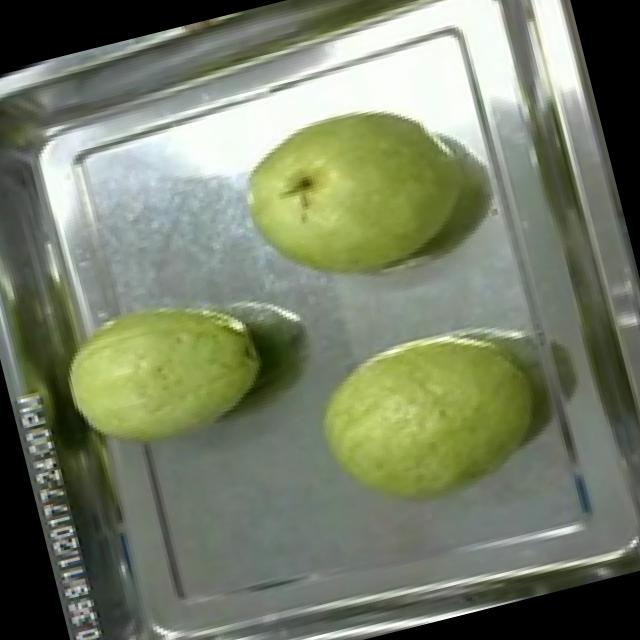Fruit: (220, 73, 494, 311), (293, 301, 560, 533), (40, 273, 282, 473)
